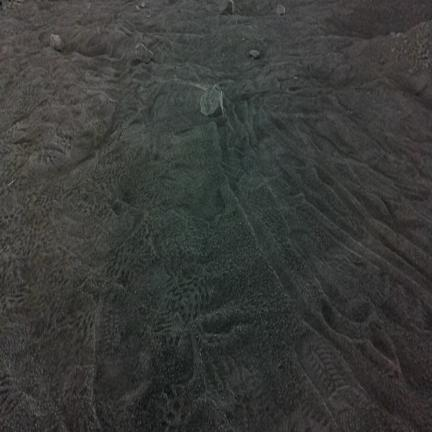Rock: (201, 85, 223, 116), (135, 43, 153, 63), (51, 34, 64, 51), (222, 0, 234, 14), (249, 50, 259, 59), (277, 4, 285, 15), (136, 5, 140, 11), (141, 2, 145, 7)
